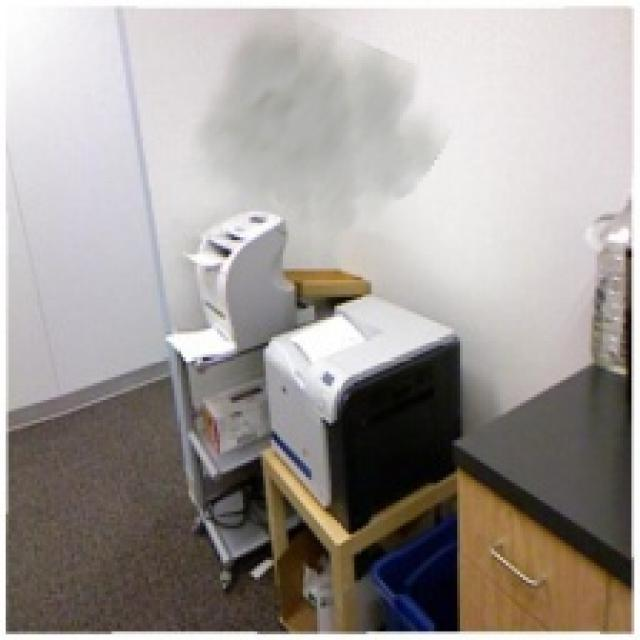Smoke: (182, 3, 458, 243)
